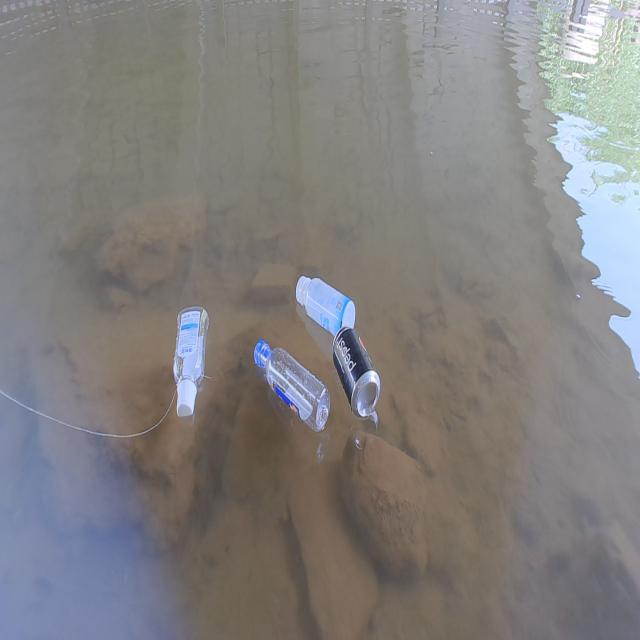garbage: (253, 338, 331, 433), (332, 326, 382, 420), (295, 273, 356, 337)
